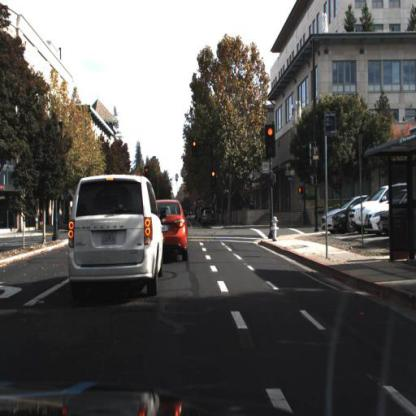car: (59, 172, 167, 304), (162, 196, 191, 269), (348, 191, 369, 242)
trafficLight-Red: (264, 123, 278, 163), (191, 139, 199, 165), (211, 169, 219, 192)
trafficLight-RedLeft: (143, 165, 152, 181)
